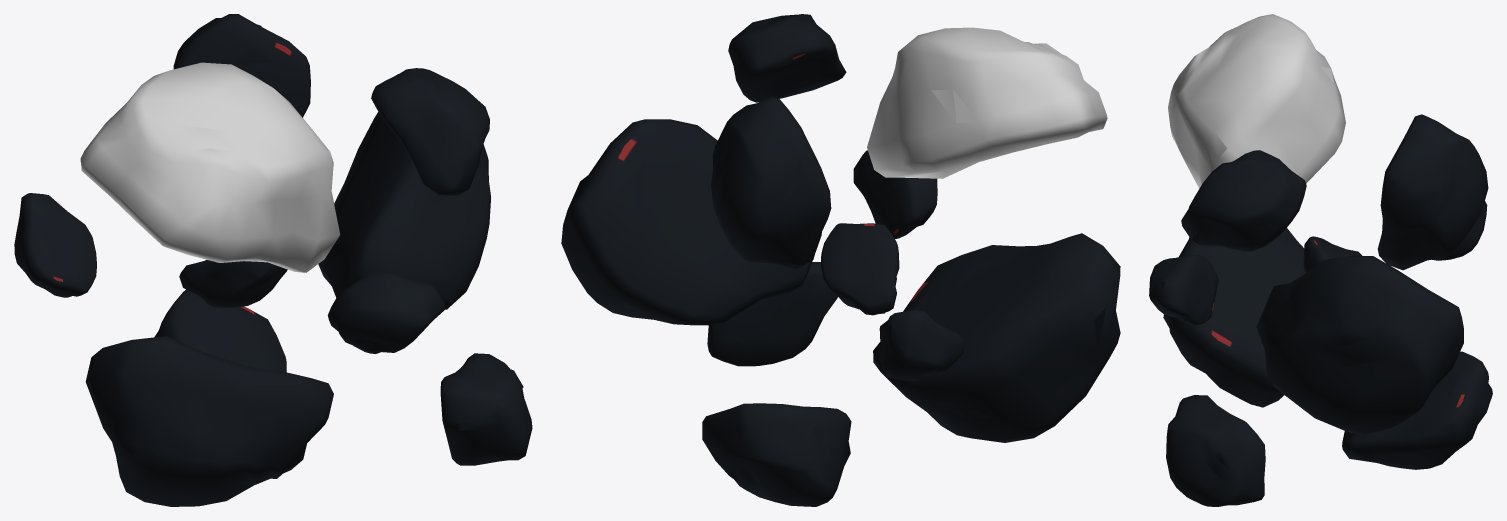
The model's file is Rock.fbx.
3 renders of one model, left to right at view 1: azimuth 30°, elevation 25°; view 2: azimuth 150°, elevation 25°; view 3: azimuth 270°, elevation 25°, orthographic. The views are drawn at different scales.
Parts seen in each view (by area): view 1: Rocks; view 2: Rocks; view 3: Rocks.
Part boxes in pixels (bbox=[...]): Rocks: bbox=[14, 14, 532, 506]; Rocks: bbox=[561, 14, 1120, 506]; Rocks: bbox=[1149, 14, 1492, 506].
Size of the model in its own units: 1615 by 1511 by 1223.
